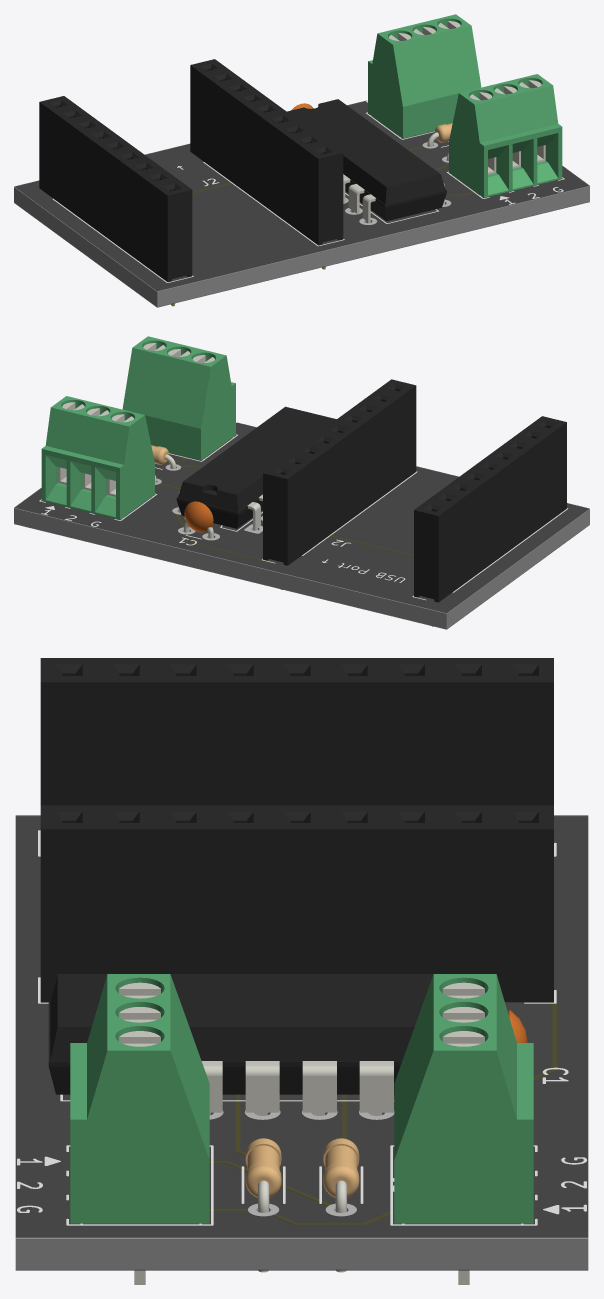
The model's file is default.pcba.glb.
3 renders of one model, top to bottom at view 1: azimuth 30°, elevation 25°; view 2: azimuth 150°, elevation 25°; view 3: azimuth 270°, elevation 25°, orthographic. The views are drawn at different scales.
Parts seen in each view (by area): view 1: =>[0:1:1:13], =>[0:1:1:11], J2, J1, J4, J3, U1, =>[0:1:1:9], =>[0:1:1:12]; view 2: =>[0:1:1:13], =>[0:1:1:11], J2, J1, J3, J4, U1, =>[0:1:1:9], C1, =>[0:1:1:12], =>[0:1:1:8]; view 3: J2, J1, =>[0:1:1:13], =>[0:1:1:11], U1, J4, J3, =>[0:1:1:9], R2, R1, =>[0:1:1:8], =>[0:1:1:7] (+1 smaller).
Boxes of the visible parts, x1,y1,x2,y2 form: =>[0:1:1:13]: (14, 102, 589, 306); =>[0:1:1:11]: (14, 100, 589, 291); J2: (190, 59, 343, 269); J1: (39, 96, 192, 306); J4: (449, 74, 562, 197); J3: (368, 14, 481, 138); U1: (287, 99, 446, 223); =>[0:1:1:9]: (52, 100, 564, 282); =>[0:1:1:12]: (14, 202, 589, 307); =>[0:1:1:13]: (14, 423, 589, 628); =>[0:1:1:11]: (14, 422, 589, 613); J2: (263, 379, 416, 589); J1: (414, 416, 566, 626); J3: (41, 396, 154, 519); J4: (122, 336, 235, 460); U1: (176, 406, 336, 530); =>[0:1:1:9]: (39, 422, 568, 600); C1: (184, 501, 213, 538); =>[0:1:1:12]: (14, 524, 589, 629); =>[0:1:1:8]: (155, 464, 433, 599); J2: (40, 805, 553, 1002); J1: (40, 658, 553, 805); =>[0:1:1:13]: (15, 817, 588, 1269); =>[0:1:1:11]: (15, 815, 588, 1237); U1: (48, 974, 433, 1115); J4: (70, 974, 209, 1284); J3: (394, 974, 533, 1284); =>[0:1:1:9]: (17, 830, 586, 1225); R2: (245, 1138, 281, 1272); R1: (323, 1138, 359, 1272); =>[0:1:1:8]: (209, 1110, 394, 1216); =>[0:1:1:7]: (210, 1004, 556, 1224).
Size of the model in its own units: 0.0445 by 0.012 by 0.0255.
